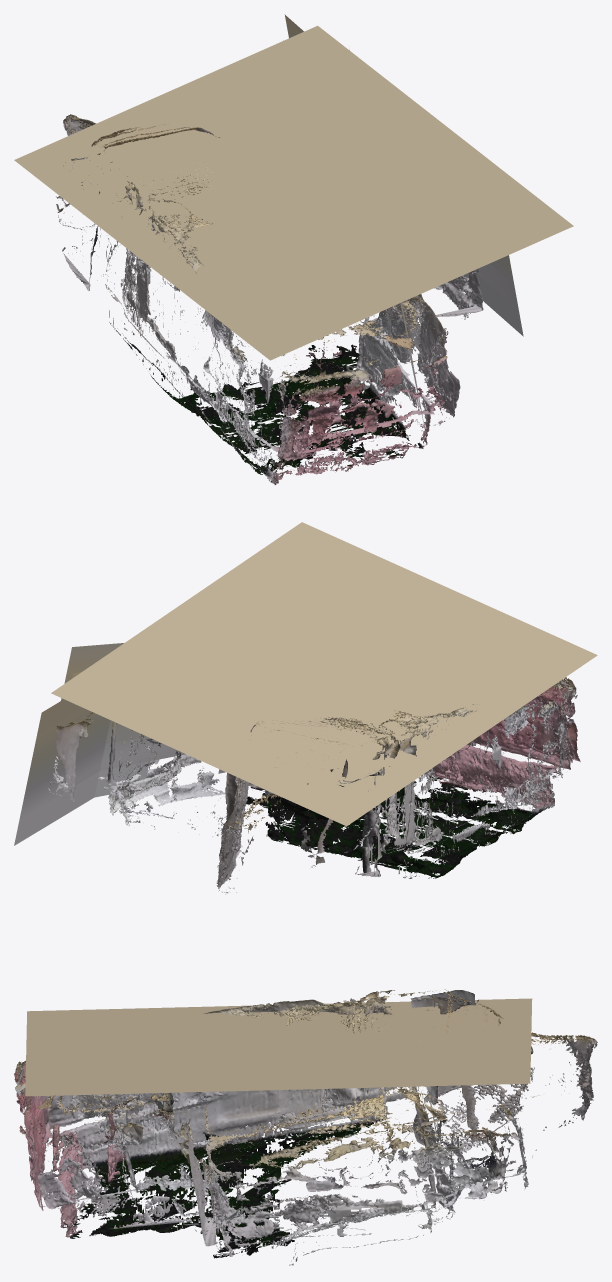
File: background_scene.glb
3 views of the same model, one above another, from view 1: azimuth 30°, elevation 25°; view 2: azimuth 150°, elevation 25°; view 3: azimuth 270°, elevation 25° (orthographic). The views are drawn at different scales.
Parts seen in each view (by area): view 1: background_mesh.ply; view 2: background_mesh.ply; view 3: background_mesh.ply.
Boxes of the visible parts, bbox=[...] form: background_mesh.ply: bbox=[14, 14, 573, 484]; background_mesh.ply: bbox=[14, 522, 597, 894]; background_mesh.ply: bbox=[14, 989, 597, 1265].
Size of the model in its own units: 6.98 by 4.4 by 10.16.
